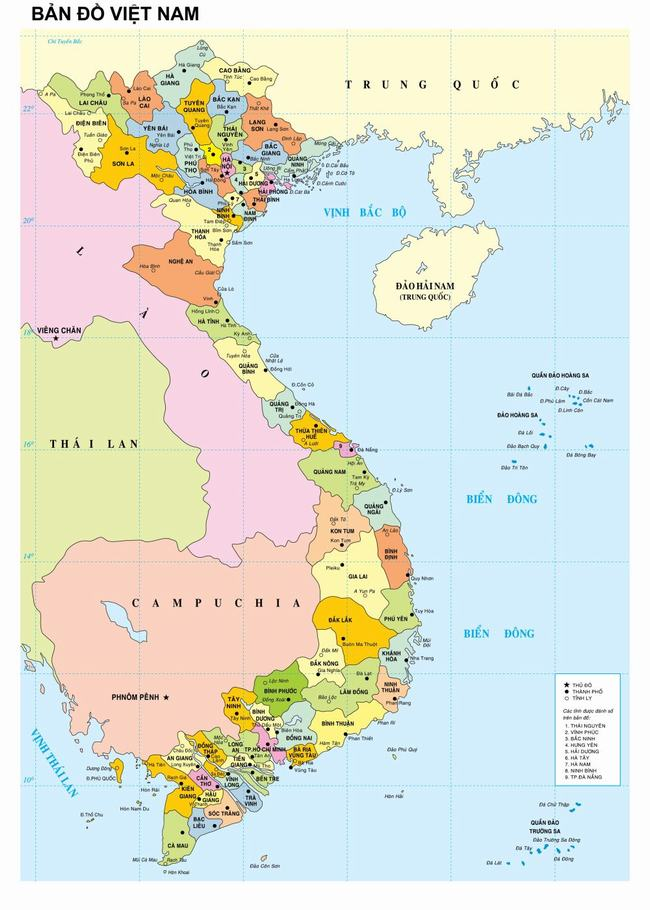Island: (479, 366, 618, 478), (479, 789, 597, 874)
